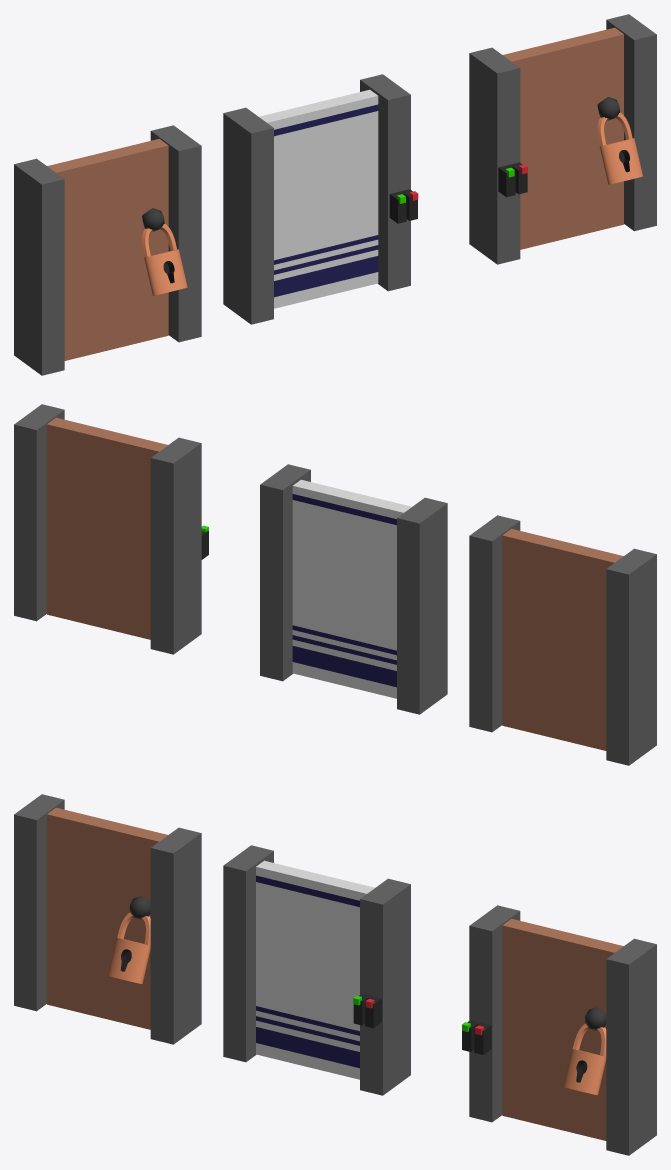
Rendered from casino_DOOORS.fbx.
3 renders of one model, top to bottom at view 1: azimuth 30°, elevation 25°; view 2: azimuth 150°, elevation 25°; view 3: azimuth 330°, elevation 25°, orthographic.
Parts seen in each view (by area): view 1: KeycardDoor, Door, Door.001, DoorFrame, DoorFrame.001, DoorFrame.002, Padlock.001, Padlock, Cube.003, Cube.002; view 2: Door, Door.001, KeycardDoor, DoorFrame, DoorFrame.002, DoorFrame.001; view 3: KeycardDoor, Door.001, Door, DoorFrame, DoorFrame.002, DoorFrame.001, Padlock.001, Padlock, Cube.003, Cube.002.
Part boxes in pixels (left/top/right/bottom): KeycardDoor: left=259, top=89, right=378, bottom=308; Door: left=47, top=138, right=168, bottom=360; Door.001: left=503, top=27, right=623, bottom=249; DoorFrame: left=14, top=125, right=201, bottom=375; DoorFrame.001: left=223, top=74, right=410, bottom=324; DoorFrame.002: left=469, top=14, right=656, bottom=264; Padlock.001: left=597, top=112, right=642, bottom=184; Padlock: left=142, top=223, right=187, bottom=295; Cube.003: left=498, top=162, right=527, bottom=197; Cube.002: left=389, top=189, right=418, bottom=223; Door: left=502, top=528, right=623, bottom=750; Door.001: left=47, top=417, right=167, bottom=639; KeycardDoor: left=292, top=479, right=411, bottom=698; DoorFrame: left=469, top=515, right=656, bottom=765; DoorFrame.002: left=14, top=404, right=201, bottom=654; DoorFrame.001: left=260, top=464, right=447, bottom=714; KeycardDoor: left=256, top=860, right=374, bottom=1079; Door.001: left=502, top=918, right=623, bottom=1140; Door: left=47, top=807, right=167, bottom=1029; DoorFrame: left=14, top=794, right=201, bottom=1044; DoorFrame.002: left=469, top=905, right=656, bottom=1155; DoorFrame.001: left=223, top=845, right=410, bottom=1095; Padlock.001: left=563, top=1023, right=606, bottom=1095; Padlock: left=107, top=912, right=150, bottom=984; Cube.003: left=462, top=1020, right=491, bottom=1054; Cube.002: left=353, top=994, right=381, bottom=1028.
Size of the model in its own units: 5404 by 1605 by 620.
